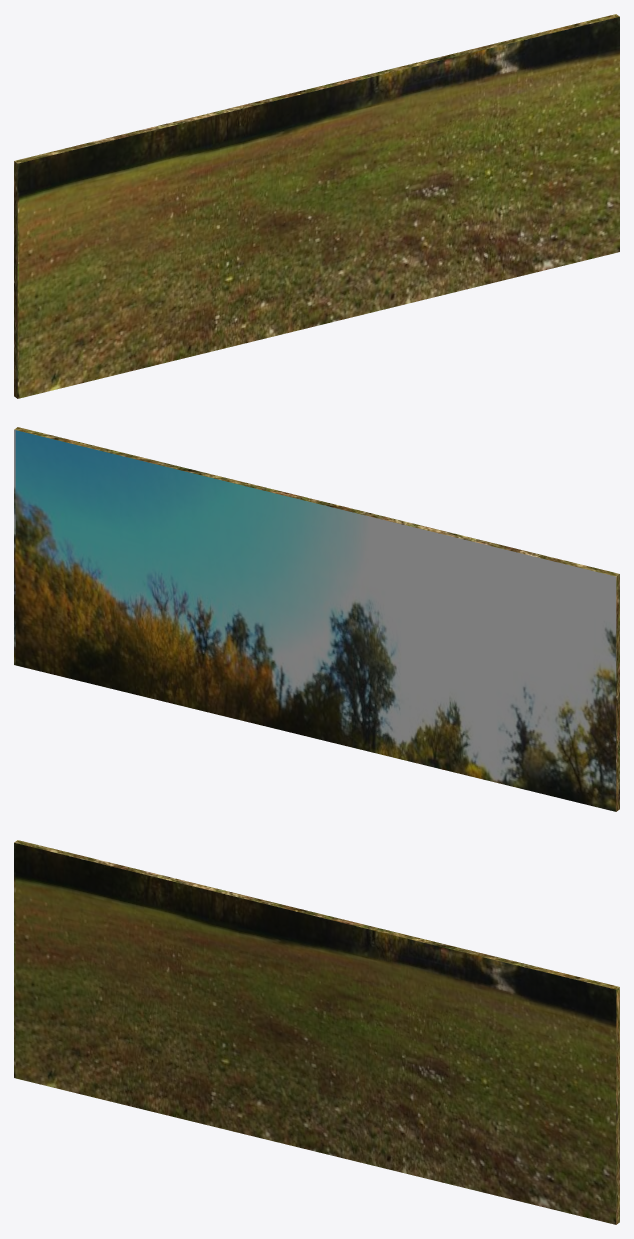
File: SkyBox.obj
3 views of the same model, one above another, from view 1: azimuth 30°, elevation 25°; view 2: azimuth 150°, elevation 25°; view 3: azimuth 330°, elevation 25° (orthographic).
Visible parts, largest first — view 1: Plane.001; view 2: Plane.001; view 3: Plane.001.
Boxes of the visible parts, x1,y1,x2,y2 form: Plane.001: [14, 14, 619, 398]; Plane.001: [14, 427, 619, 811]; Plane.001: [14, 840, 619, 1224].
Bounding box in the file's own units: 6.96 × 2.6 × 0.0743.
